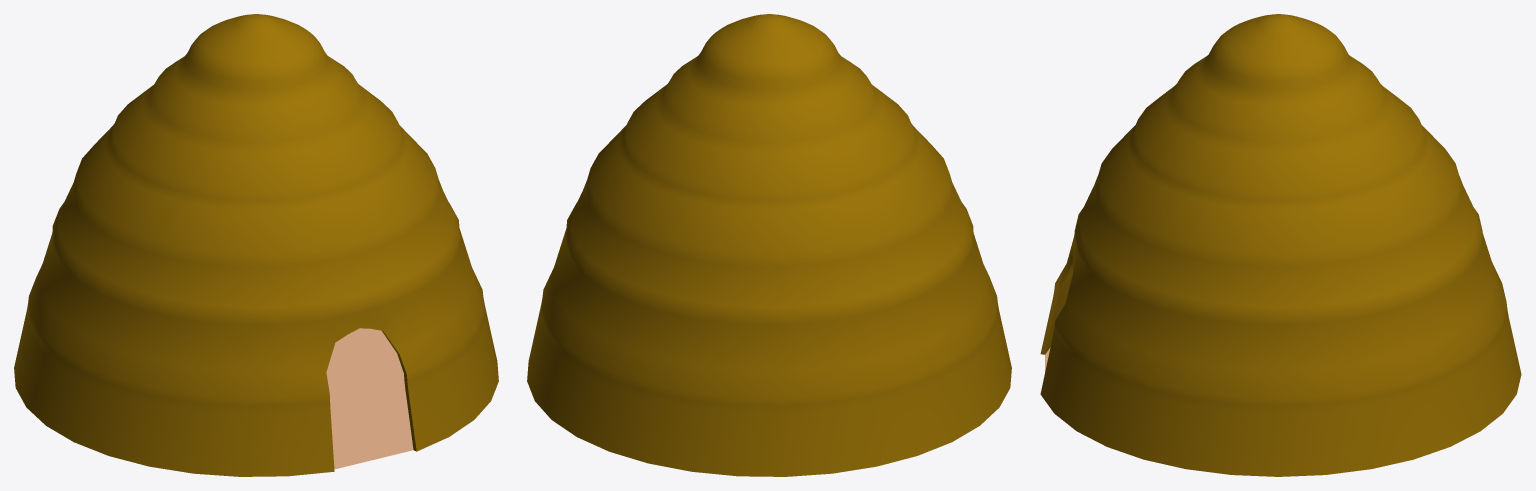
Rendered from Beehive.fbx.
3 renders of one model, left to right at view 1: azimuth 30°, elevation 25°; view 2: azimuth 150°, elevation 25°; view 3: azimuth 270°, elevation 25°, orthographic.
Visible parts, largest first — view 1: Beehive; view 2: Beehive; view 3: Beehive.
Part boxes in pixels (bbox=[...]): Beehive: bbox=[14, 14, 498, 476]; Beehive: bbox=[527, 14, 1011, 476]; Beehive: bbox=[1040, 14, 1521, 476].
Size of the model in its own units: 20400 by 16510 by 20204.
